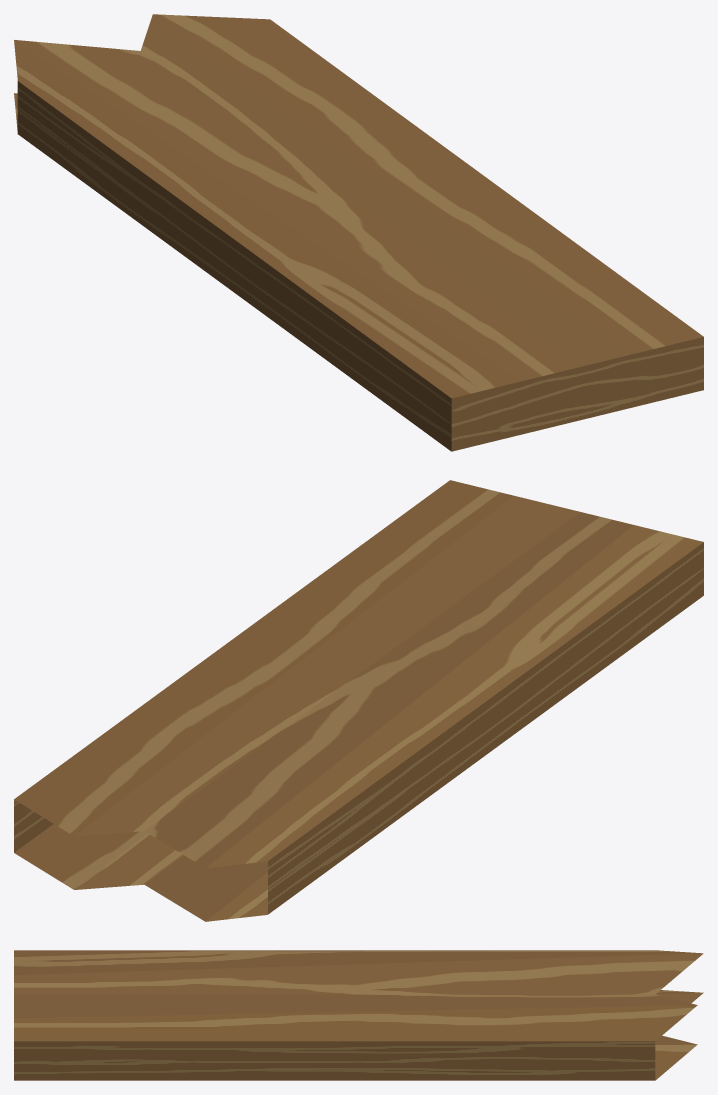
The model's file is left-plank.glb.
3 views of the same model, one above another, from view 1: azimuth 30°, elevation 25°; view 2: azimuth 150°, elevation 25°; view 3: azimuth 270°, elevation 25° (orthographic). The views are drawn at different scales.
Parts seen in each view (by area): view 1: Cube; view 2: Cube; view 3: Cube.
Part boxes in pixels (<box>): Cube: <box>14,14,703,451</box>; Cube: <box>14,480,703,921</box>; Cube: <box>14,950,703,1080</box>.
Size of the model in its own units: 2.61 by 0.6253 by 8.36.
Materials: 1 (1 with a texture image).
